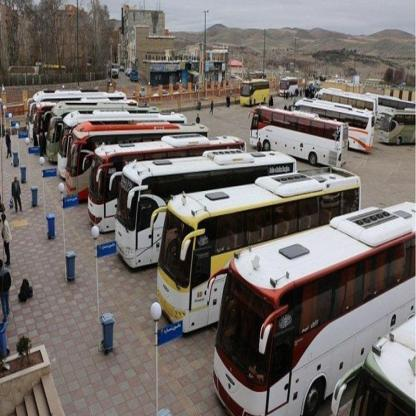Bus: (197, 197, 416, 407), (147, 154, 365, 323), (107, 134, 296, 258), (84, 128, 248, 223), (62, 123, 210, 205), (337, 313, 416, 416), (246, 105, 346, 171), (297, 96, 375, 150), (375, 104, 416, 148), (45, 101, 67, 159), (27, 102, 47, 157), (238, 78, 273, 106), (280, 79, 299, 94)
